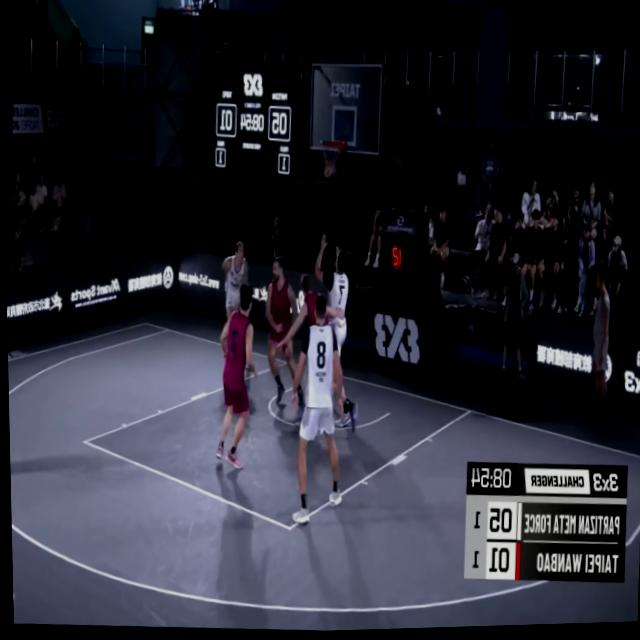ball: (321, 161, 337, 185)
hoop: (318, 136, 344, 182)
player: (286, 294, 350, 530), (302, 231, 366, 432), (266, 274, 348, 416), (210, 283, 260, 476), (258, 254, 310, 410), (214, 238, 257, 373)
